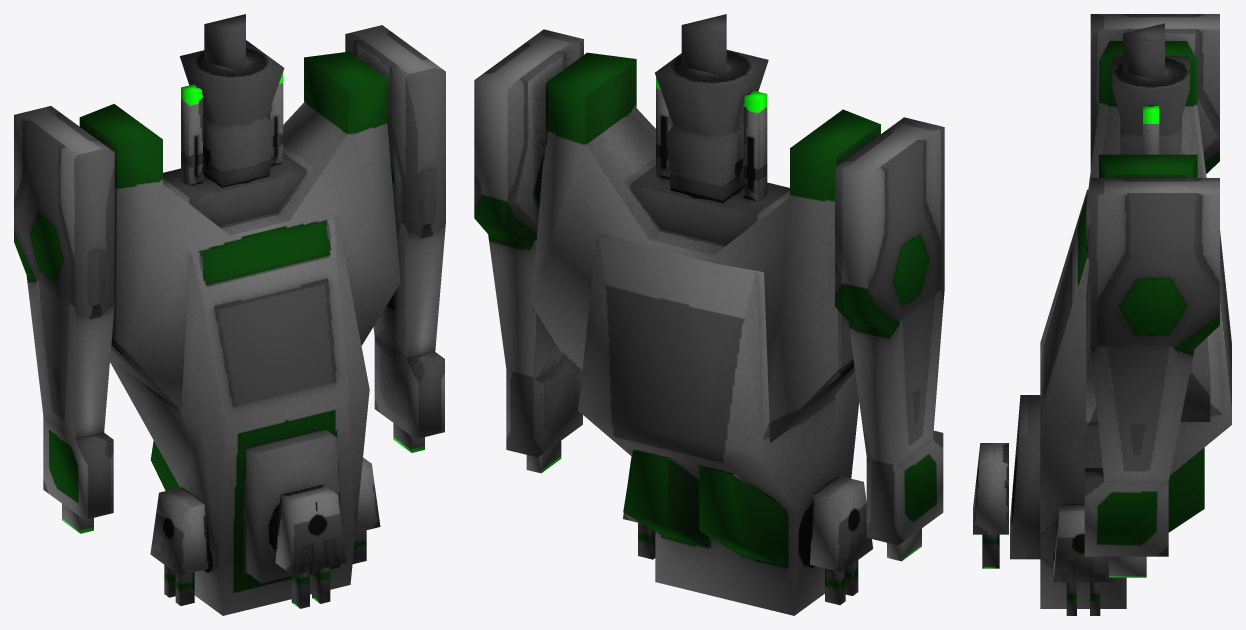
File: green_spaceship_03.fbx
3 renders of one model, left to right at view 1: azimuth 30°, elevation 25°; view 2: azimuth 150°, elevation 25°; view 3: azimuth 270°, elevation 25°, orthographic. The views are drawn at different scales.
Visible parts, largest first — view 1: UnionFrigateMod; view 2: UnionFrigateMod; view 3: UnionFrigateMod.
Part boxes in pixels (x1,y1,x2,y2): UnionFrigateMod: (14, 14, 445, 615); UnionFrigateMod: (474, 14, 944, 615); UnionFrigateMod: (973, 14, 1231, 615).
Size of the model in its own units: 1088 by 653 by 1514.
